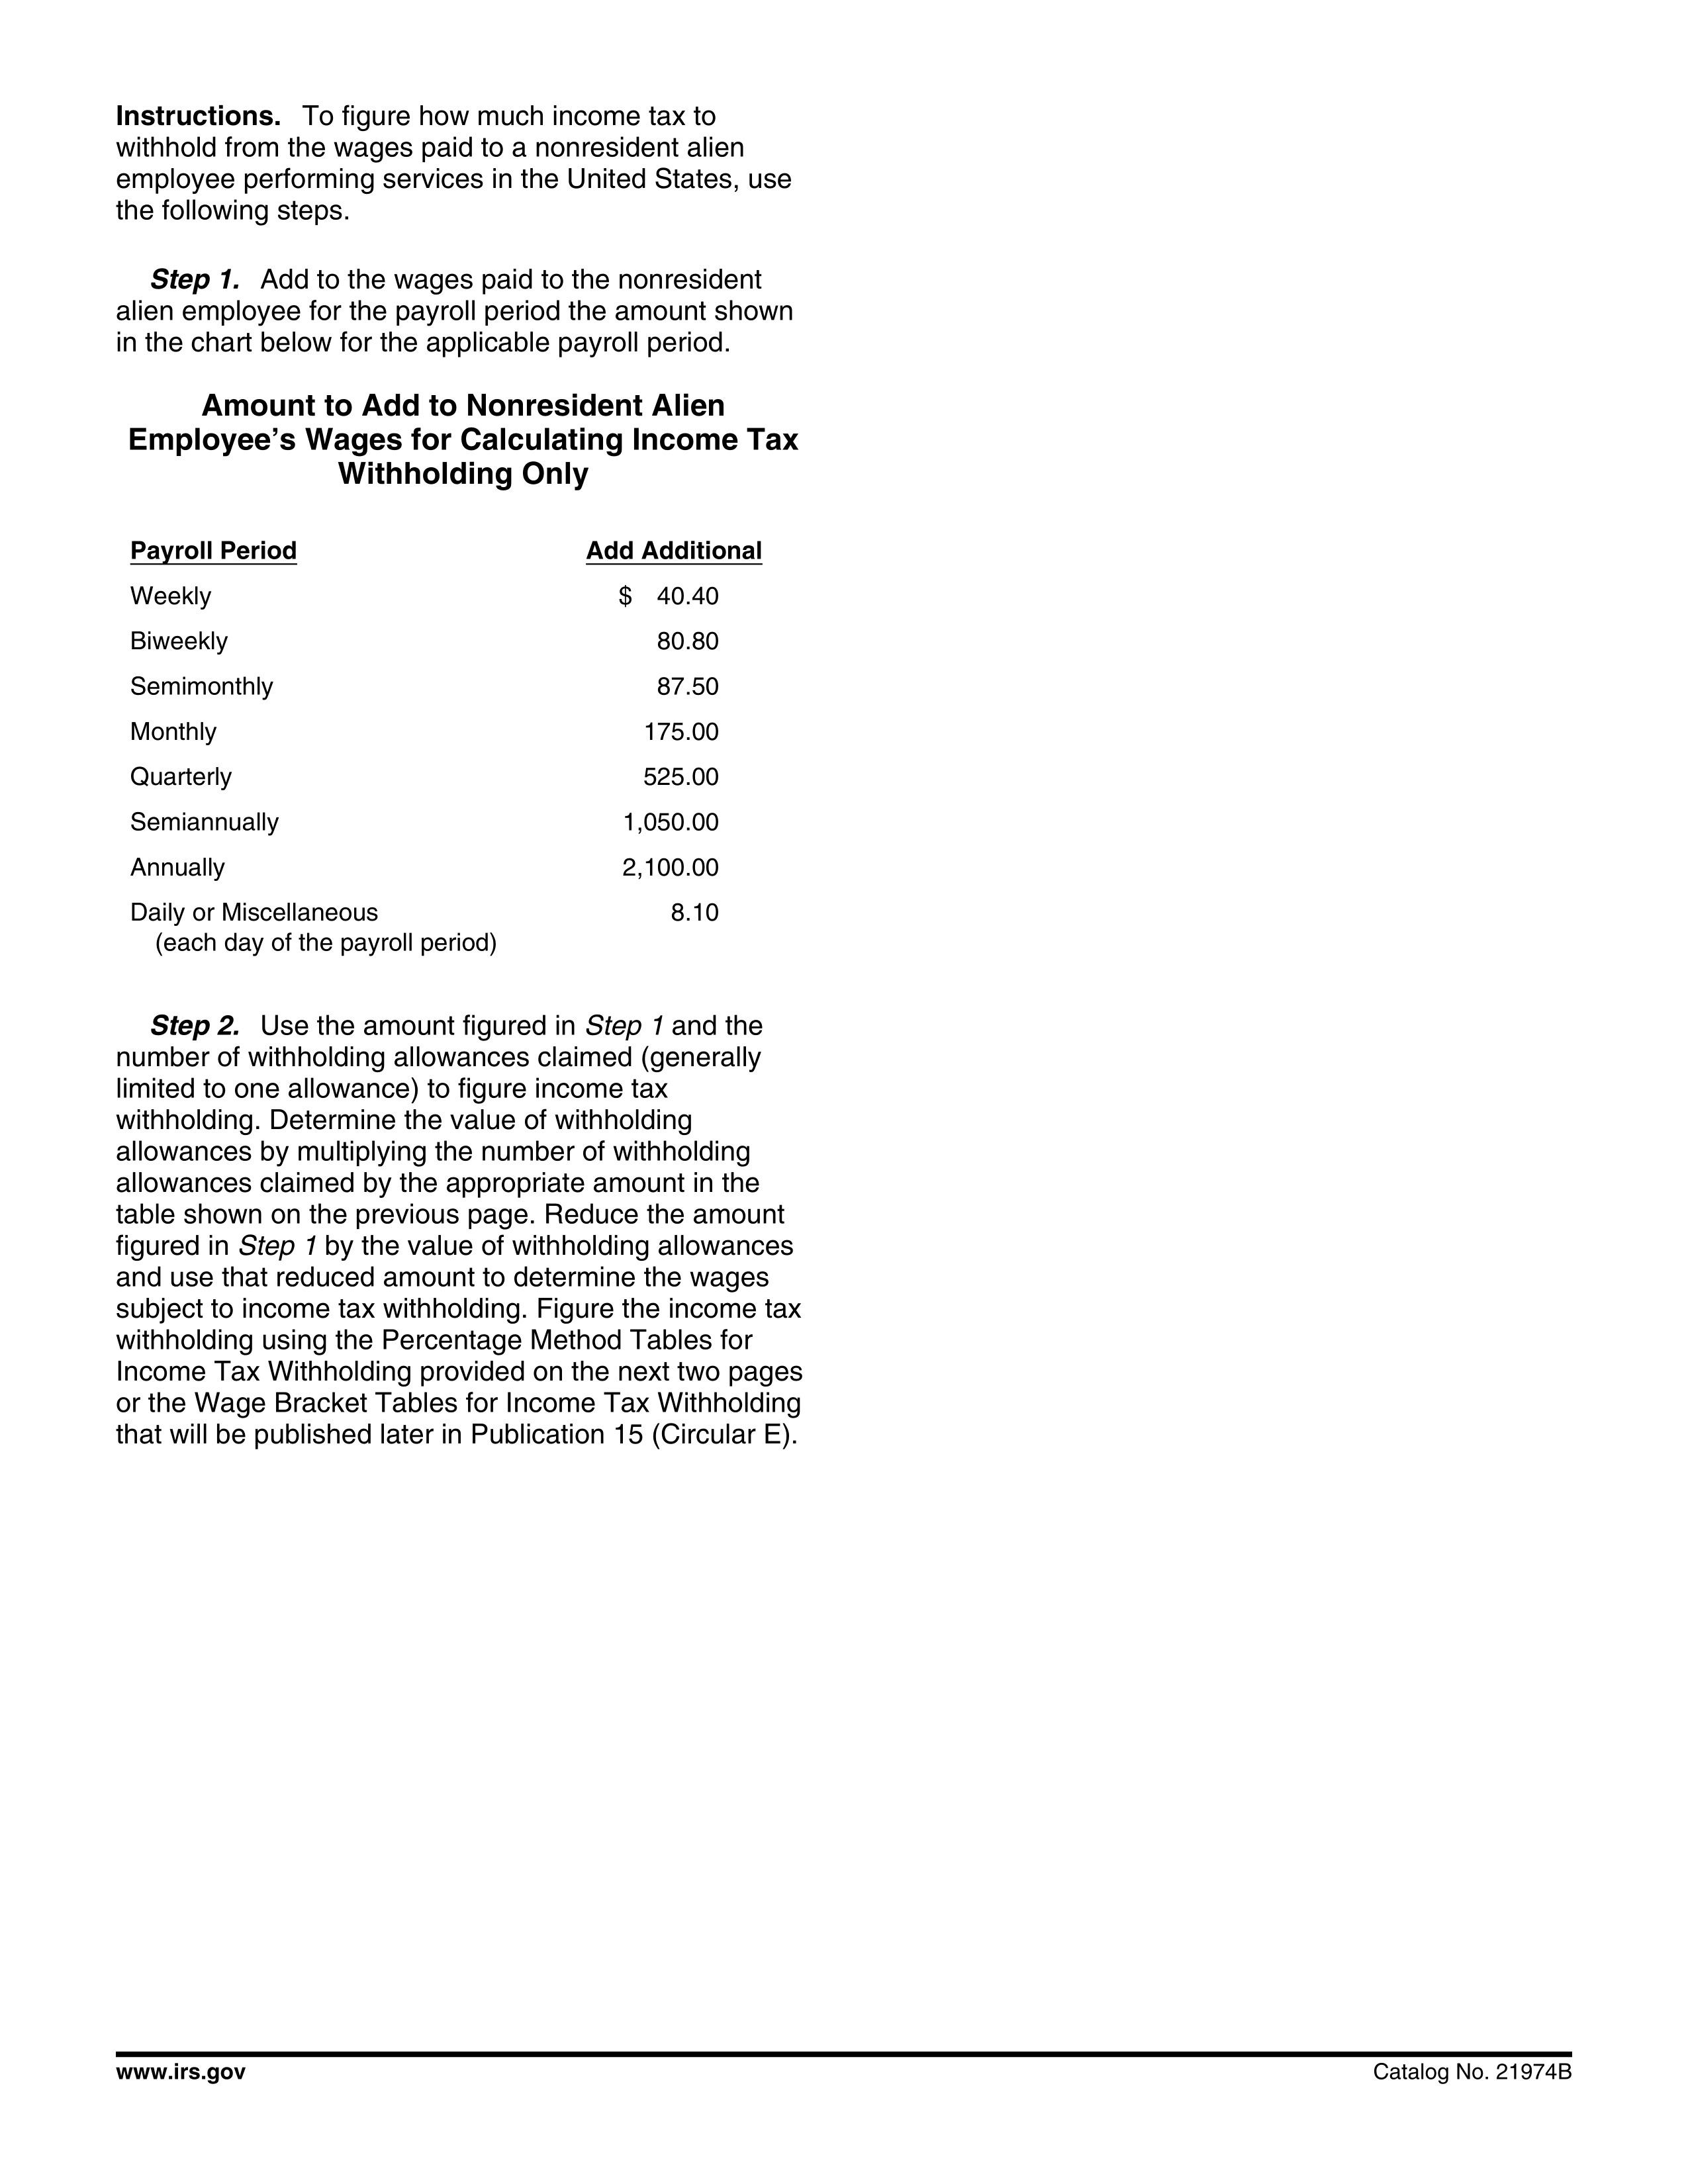table: (129, 539, 762, 956)
